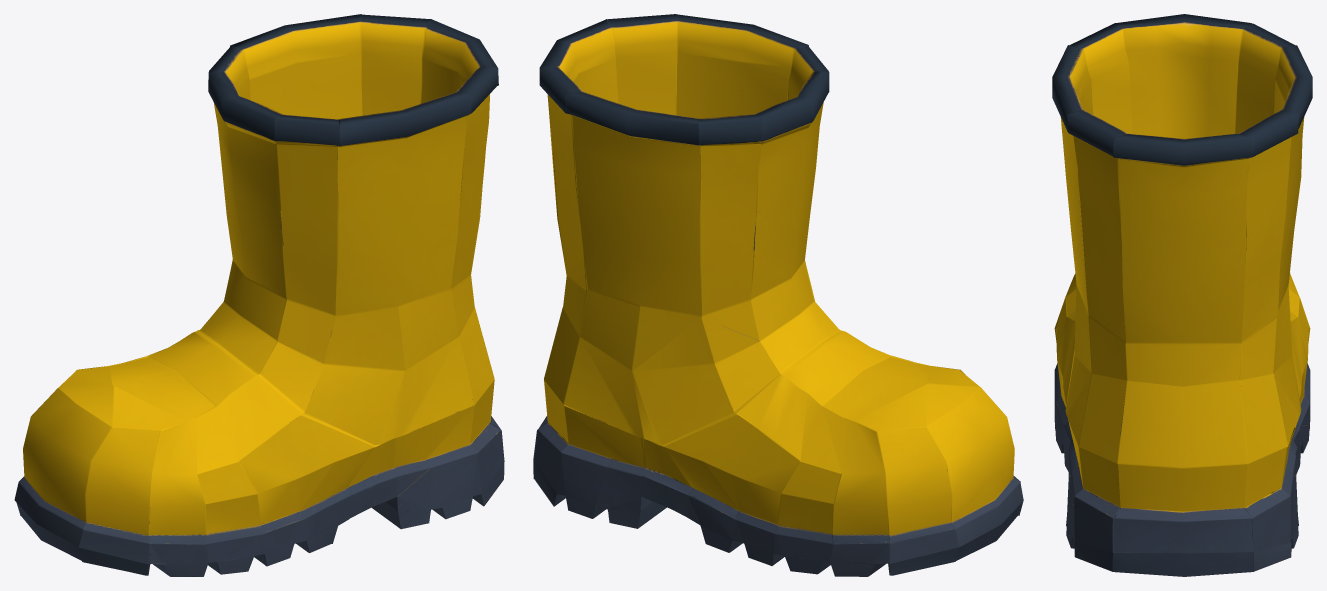
Rendered from rain_boot.glb.
The picture shows the model from 3 angles, left to right: view 1: azimuth 30°, elevation 25°; view 2: azimuth 150°, elevation 25°; view 3: azimuth 270°, elevation 25°; orthographic projection. The views are drawn at different scales.
Parts seen in each view (by area): view 1: geometry_0; view 2: geometry_0; view 3: geometry_0.
Boxes of the visible parts, box(x1,y1,x2,y2) form: geometry_0: box(14, 14, 504, 576); geometry_0: box(533, 14, 1023, 576); geometry_0: box(1052, 14, 1312, 576).
Size of the model in its own units: 0.9497 by 0.854 by 0.4614.
Materials: 1 (1 with a texture image).
